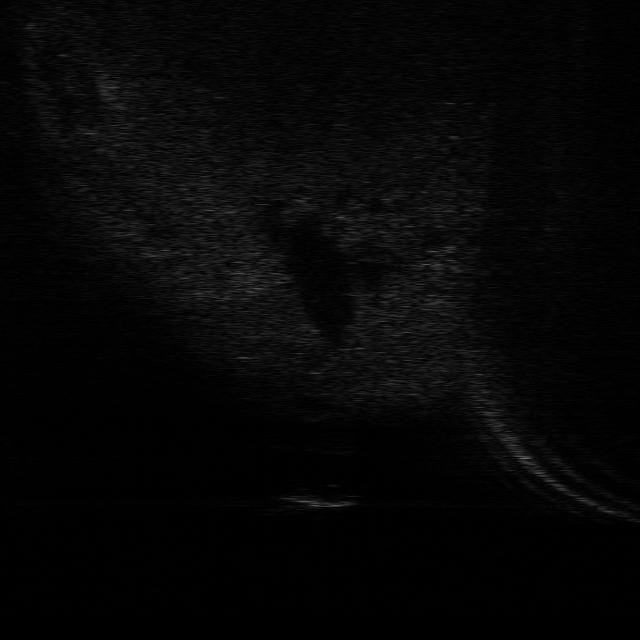cube: (274, 488, 361, 515)
